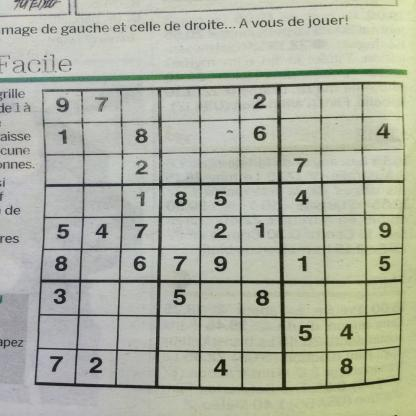sudoku: (32, 78, 414, 392)
